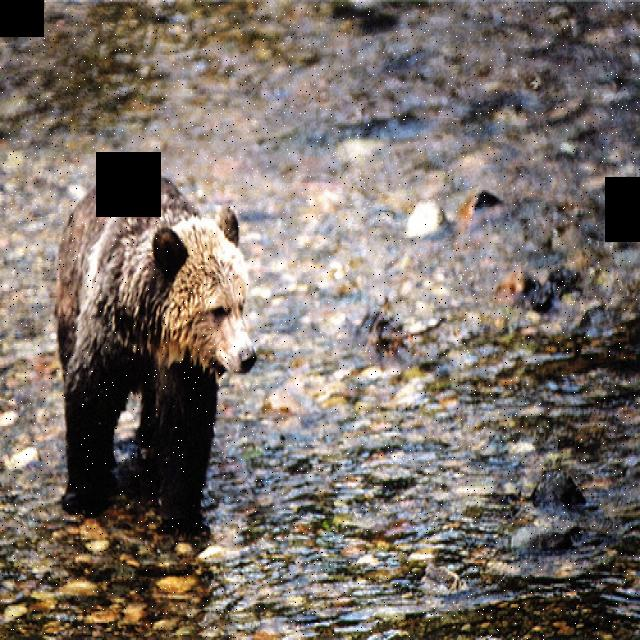Bear: (49, 165, 262, 542)
